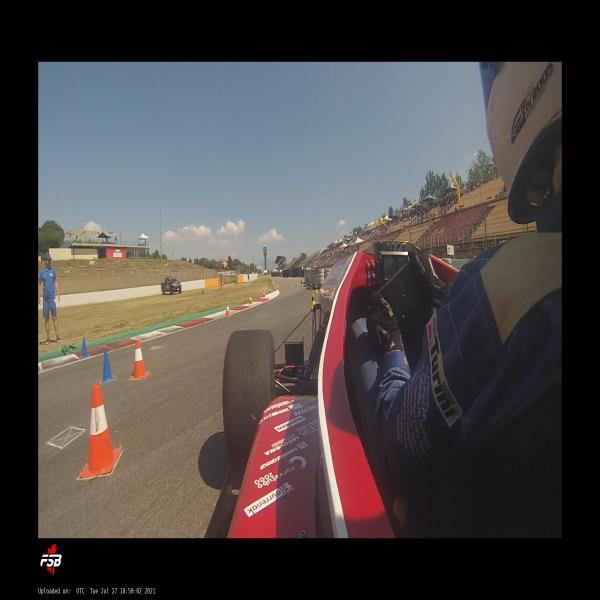orange_cone: (80, 384, 121, 478), (130, 340, 149, 379), (226, 303, 230, 317), (249, 295, 252, 304), (262, 290, 264, 297), (269, 287, 271, 293)
unknown_cone: (100, 347, 115, 383), (80, 337, 89, 358)
yellow_cone: (311, 293, 315, 308), (315, 284, 318, 293), (310, 284, 312, 290)
